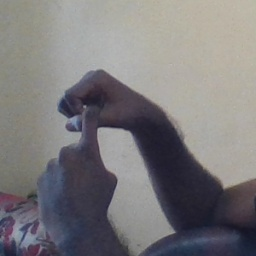Q: (23, 65, 131, 207)
